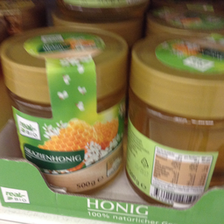honey: (1, 25, 130, 202), (127, 33, 224, 203)
